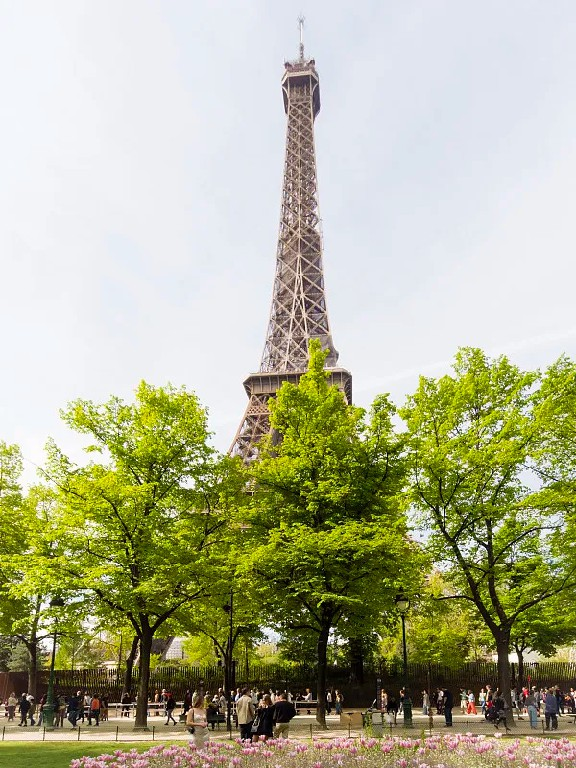Eiffel: (226, 15, 359, 461)
